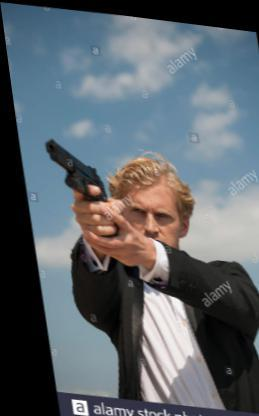pistol: (34, 132, 114, 238)
